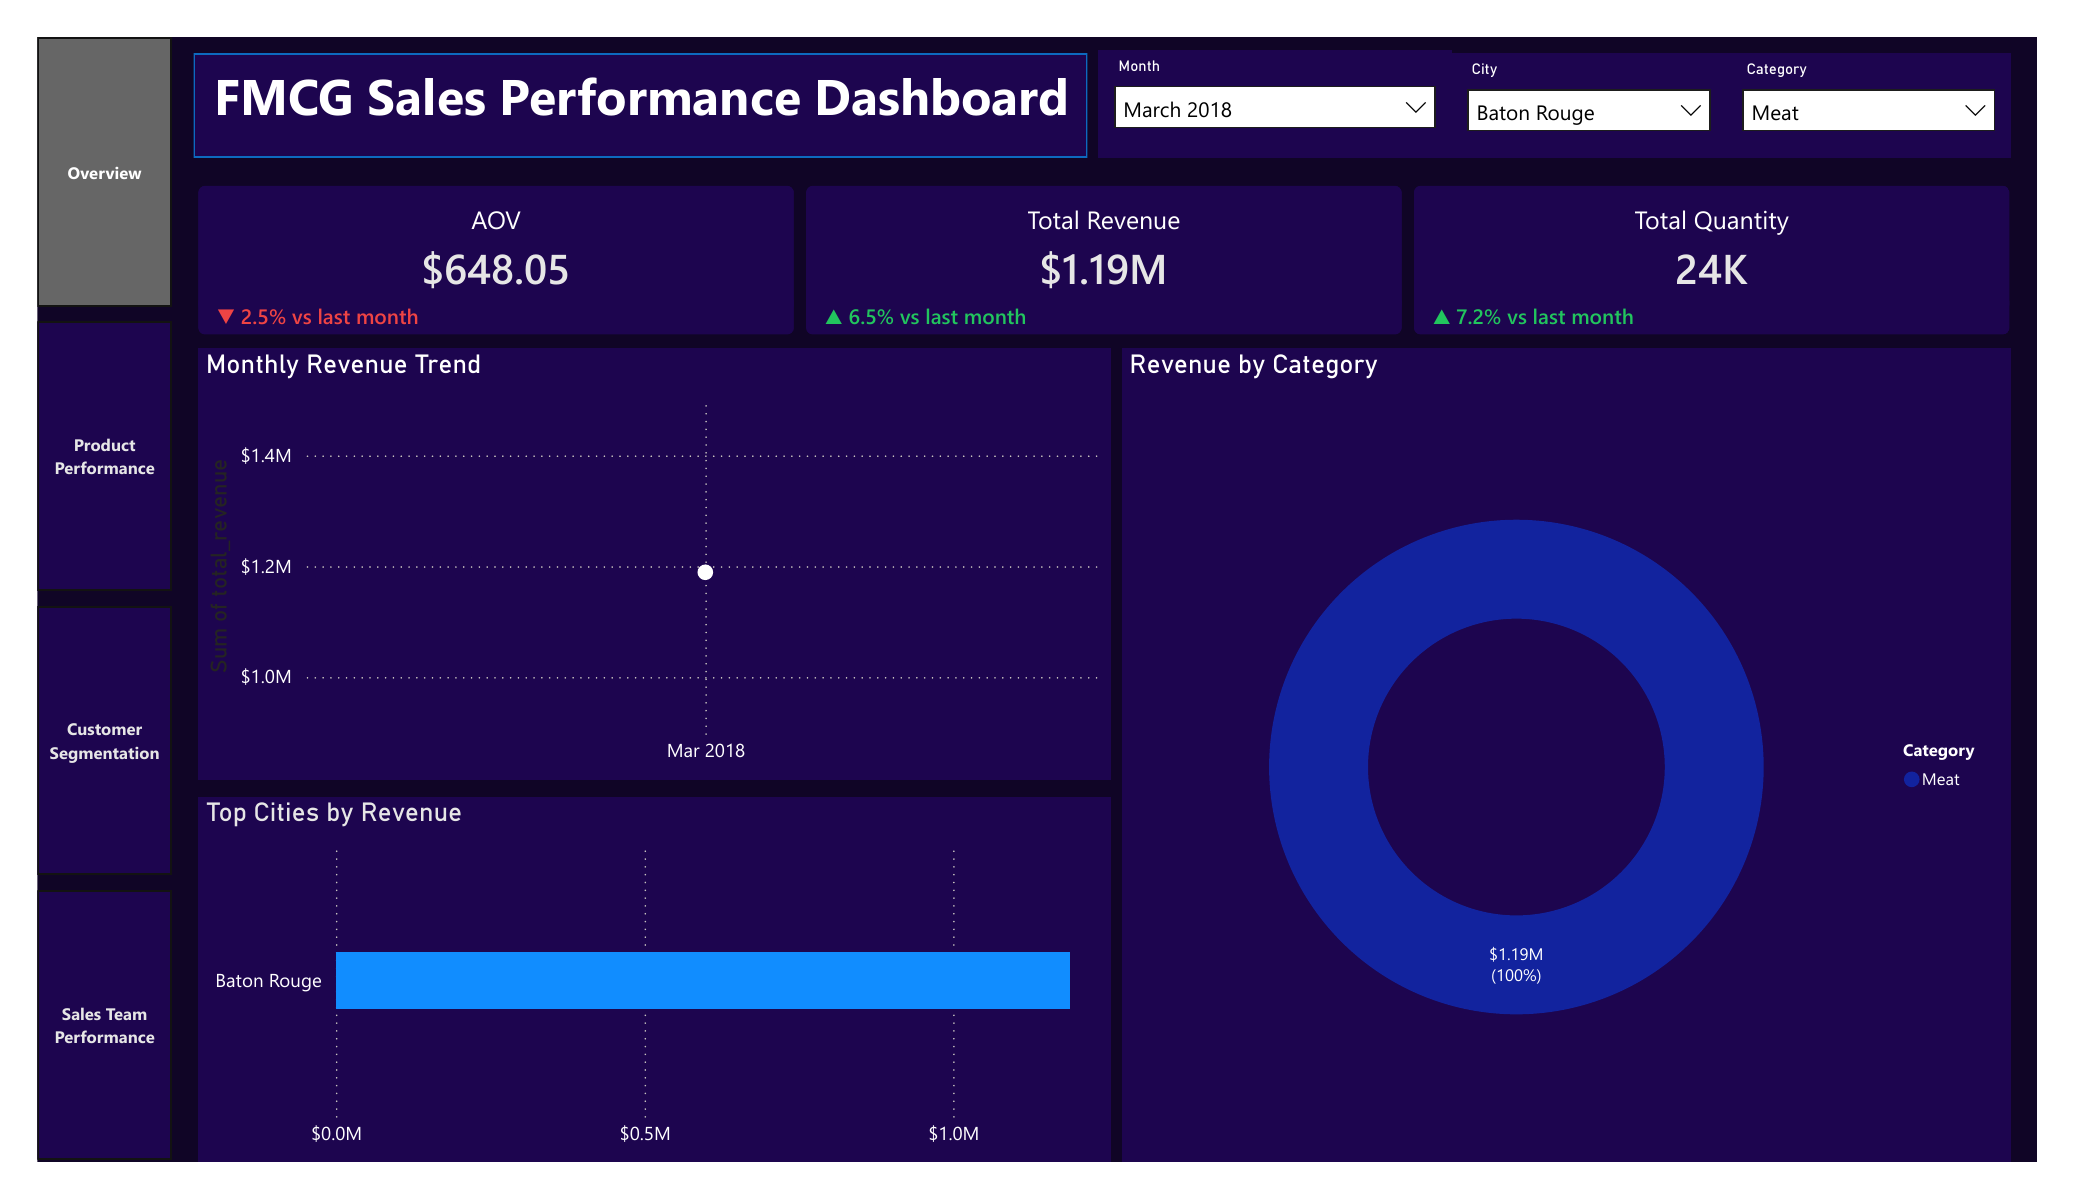

This screenshot's page, from the dashboard's own definition file:
{"tool":"powerbi","page":{"name":"Overview","canvas":[1280,720],"ordinal":0},"visuals":[{"type":"group","id":"g1","title":"Group 1","box":[678.8,7.5,583.8,68.8],"z":0},{"type":"slicer","fields":{"Values":["Dim_Month.month"]},"box":[678.8,7.5,225.9,68.8],"z":0,"group":"g1"},{"type":"shape","box":[100,10,571.8,67.3],"z":0,"group":"g3"},{"type":"cardVisual","fields":{"Data":["fmcg vw_category_revenue_by_city_month.AOV","Sum(fmcg vw_category_revenue_by_city_month.total_revenue)","Sum(fmcg vw_category_revenue_by_city_month.total_quantity)"]},"box":[86.2,77.5,1193.9,114.9],"z":0,"group":"g2"},{"type":"slicer","fields":{"Values":["Dim_City.cityname"]},"box":[905,9.7,175.5,66.4],"z":1000,"group":"g1"},{"type":"textbox","box":[102.5,10,568.8,67.5],"z":1000,"group":"g3"},{"type":"group","id":"g2","title":"Group 2","box":[86.2,77.5,1193.8,128.8],"z":1000},{"type":"pageNavigator","box":[0,0,86.2,720],"z":2000},{"type":"slicer","fields":{"Values":["Dim_Category.categoryname"]},"box":[1080.5,9.7,182,66.4],"z":2000,"group":"g1"},{"type":"cardVisual","fields":{"Data":["fmcg vw_category_revenue_by_city_month.AOV Change Text","fmcg vw_category_revenue_by_city_month.Revenue Change Text","fmcg vw_category_revenue_by_city_month.Quantity Change Text"]},"box":[86.5,147.7,1193.3,59.1],"z":2000,"group":"g2"},{"type":"lineChart","title":"Monthly Revenue Trend","fields":{"Category":["fmcg vw_category_revenue_by_city_month.month"],"Y":["Sum(fmcg vw_category_revenue_by_city_month.total_revenue)"]},"box":[102.7,199.1,584.5,276.4],"z":3000},{"type":"donutChart","title":"Revenue by Category","fields":{"Category":["fmcg vw_category_revenue_by_city_month.categoryname"],"Y":["Sum(fmcg vw_category_revenue_by_city_month.total_revenue)"]},"box":[693.8,198.8,568.8,521.2],"z":4000},{"type":"clusteredBarChart","title":"Top Cities by Revenue","fields":{"Category":["fmcg vw_category_revenue_by_city_month.cityname"],"Y":["Sum(fmcg vw_category_revenue_by_city_month.total_revenue)"]},"box":[102.7,486.4,584.5,233.6],"z":5000},{"type":"group","id":"g3","title":"Group 3","box":[100,10,571.8,67.5],"z":6000}]}

Visuals, with their boxes on the page's 1280x720 design canvas (x1, y1, x2, y2). These are canvas units, not pixel positions in the 2075x1200 screenshot, which may show the page scaled, cropped or inside an application window:
"Group 1" group: {"left": 679, "top": 8, "right": 1263, "bottom": 76}
slicer - Dim_Month.month: {"left": 679, "top": 8, "right": 905, "bottom": 76}
shape: {"left": 100, "top": 10, "right": 672, "bottom": 77}
cardVisual - fmcg vw_category_revenue_by_city_month.AOV x Sum(fmcg vw_category_revenue_by_city_month.total_revenue): {"left": 86, "top": 78, "right": 1280, "bottom": 192}
slicer - Dim_City.cityname: {"left": 905, "top": 10, "right": 1080, "bottom": 76}
textbox: {"left": 102, "top": 10, "right": 671, "bottom": 78}
"Group 2" group: {"left": 86, "top": 78, "right": 1280, "bottom": 206}
pageNavigator: {"left": 0, "top": 0, "right": 86, "bottom": 720}
slicer - Dim_Category.categoryname: {"left": 1080, "top": 10, "right": 1262, "bottom": 76}
cardVisual - fmcg vw_category_revenue_by_city_month.AOV Change Text x fmcg vw_category_revenue_by_city_month.Revenue Change Text: {"left": 86, "top": 148, "right": 1280, "bottom": 207}
"Monthly Revenue Trend" lineChart: {"left": 103, "top": 199, "right": 687, "bottom": 476}
"Revenue by Category" donutChart: {"left": 694, "top": 199, "right": 1263, "bottom": 720}
"Top Cities by Revenue" clusteredBarChart: {"left": 103, "top": 486, "right": 687, "bottom": 720}
"Group 3" group: {"left": 100, "top": 10, "right": 672, "bottom": 78}
